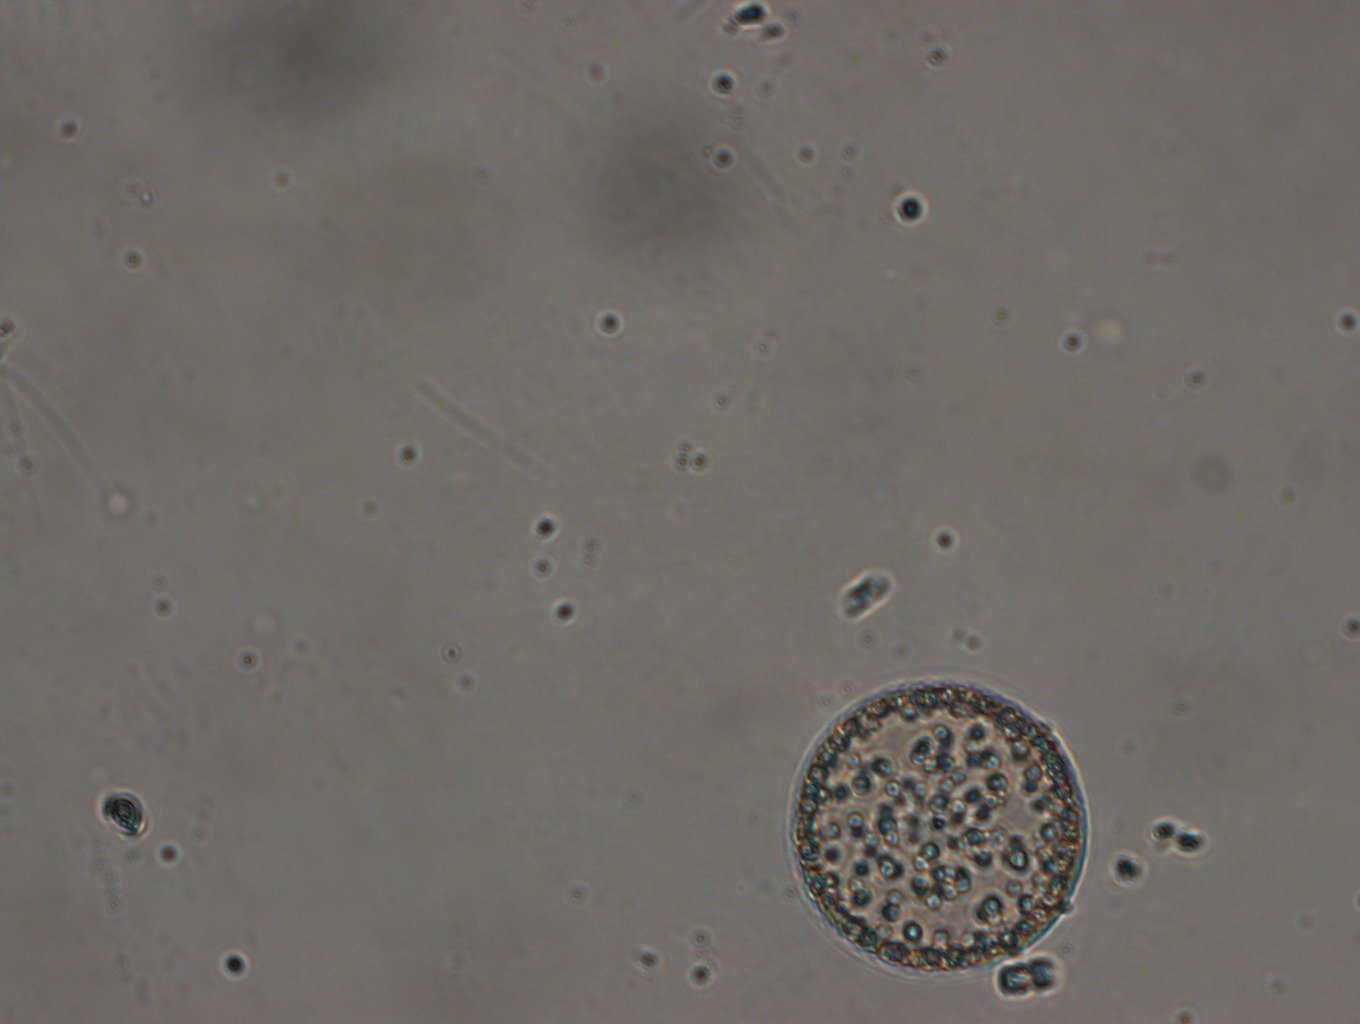coscinodiscus: (785, 675, 1091, 978)
